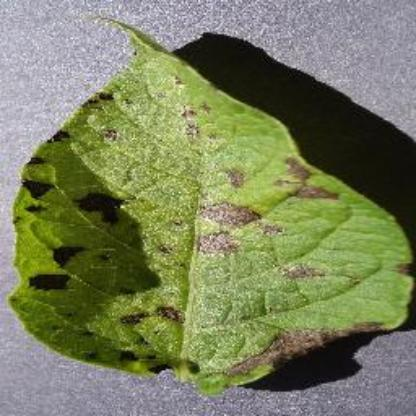Early-Blight: (9, 12, 412, 390)
